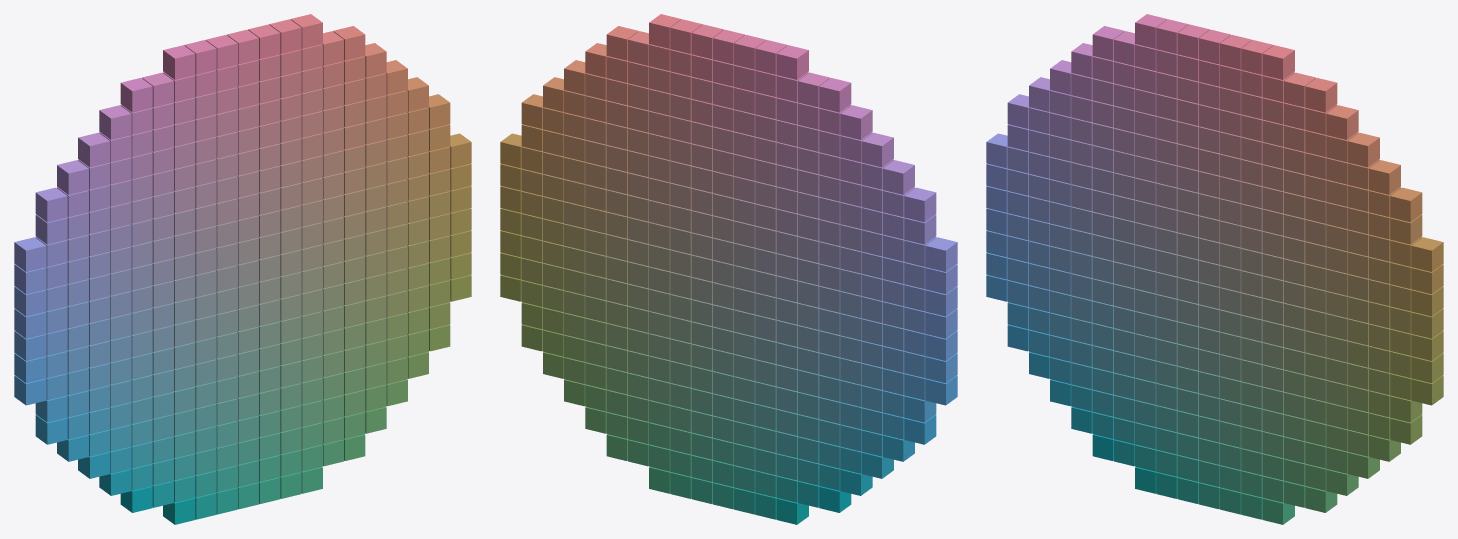
Rendered from colors2.obj.
3 views of the same model, side by side, from view 1: azimuth 30°, elevation 25°; view 2: azimuth 150°, elevation 25°; view 3: azimuth 330°, elevation 25° (orthographic).
Parts seen in each view (by area): view 1: lab_70_28_-28, lab_70_20_-36, lab_70_36_-20, lab_70_40_-12, lab_70_12_-40, lab_70_32_-24, lab_70_24_-32, lab_70_-4_-40, lab_70_0_-40, lab_70_-12_-40, lab_70_-8_-40, lab_70_8_-40 (+29 smaller); view 2: lab_70_28_-28, lab_70_20_-36, lab_70_36_-20, lab_70_40_-12, lab_70_12_-40, lab_70_32_-24, lab_70_24_-32, lab_70_-4_-40, lab_70_0_-40, lab_70_-12_-40, lab_70_-8_-40, lab_70_8_-40 (+29 smaller); view 3: lab_70_28_28, lab_70_20_36, lab_70_36_20, lab_70_40_12, lab_70_12_40, lab_70_32_24, lab_70_24_32, lab_70_-4_40, lab_70_0_40, lab_70_-12_40, lab_70_-8_40, lab_70_8_40 (+29 smaller).
Boxes of the visible parts, x1=… form: lab_70_28_-28: x1=78, y1=132, x2=110, y2=167; lab_70_20_-36: x1=35, y1=187, x2=67, y2=222; lab_70_36_-20: x1=120, y1=78, x2=152, y2=112; lab_70_40_-12: x1=163, y1=45, x2=195, y2=79; lab_70_12_-40: x1=14, y1=237, x2=46, y2=271; lab_70_32_-24: x1=99, y1=105, x2=131, y2=139; lab_70_24_-32: x1=57, y1=160, x2=88, y2=194; lab_70_-4_-40: x1=14, y1=331, x2=46, y2=360; lab_70_0_-40: x1=14, y1=308, x2=46, y2=338; lab_70_-12_-40: x1=14, y1=375, x2=46, y2=405; lab_70_-8_-40: x1=14, y1=353, x2=46, y2=383; lab_70_8_-40: x1=14, y1=264, x2=46, y2=294; lab_70_28_-28: x1=861, y1=132, x2=893, y2=167; lab_70_20_-36: x1=904, y1=187, x2=936, y2=222; lab_70_36_-20: x1=819, y1=78, x2=851, y2=112; lab_70_40_-12: x1=776, y1=45, x2=808, y2=79; lab_70_12_-40: x1=925, y1=237, x2=957, y2=271; lab_70_32_-24: x1=840, y1=105, x2=872, y2=139; lab_70_24_-32: x1=883, y1=160, x2=914, y2=194; lab_70_-4_-40: x1=925, y1=331, x2=957, y2=360; lab_70_0_-40: x1=925, y1=308, x2=957, y2=338; lab_70_-12_-40: x1=925, y1=375, x2=957, y2=405; lab_70_-8_-40: x1=925, y1=353, x2=957, y2=383; lab_70_8_-40: x1=925, y1=264, x2=957, y2=294; lab_70_28_28: x1=1347, y1=132, x2=1379, y2=167; lab_70_20_36: x1=1390, y1=187, x2=1422, y2=222; lab_70_36_20: x1=1305, y1=78, x2=1337, y2=112; lab_70_40_12: x1=1262, y1=45, x2=1294, y2=79; lab_70_12_40: x1=1411, y1=237, x2=1443, y2=271; lab_70_32_24: x1=1326, y1=105, x2=1358, y2=139; lab_70_24_32: x1=1369, y1=160, x2=1400, y2=194; lab_70_-4_40: x1=1411, y1=331, x2=1443, y2=360; lab_70_0_40: x1=1411, y1=308, x2=1443, y2=338; lab_70_-12_40: x1=1411, y1=375, x2=1443, y2=405; lab_70_-8_40: x1=1411, y1=353, x2=1443, y2=383; lab_70_8_40: x1=1411, y1=264, x2=1443, y2=294.
Size of the model in its own units: 20.96 by 20.96 by 0.96.
